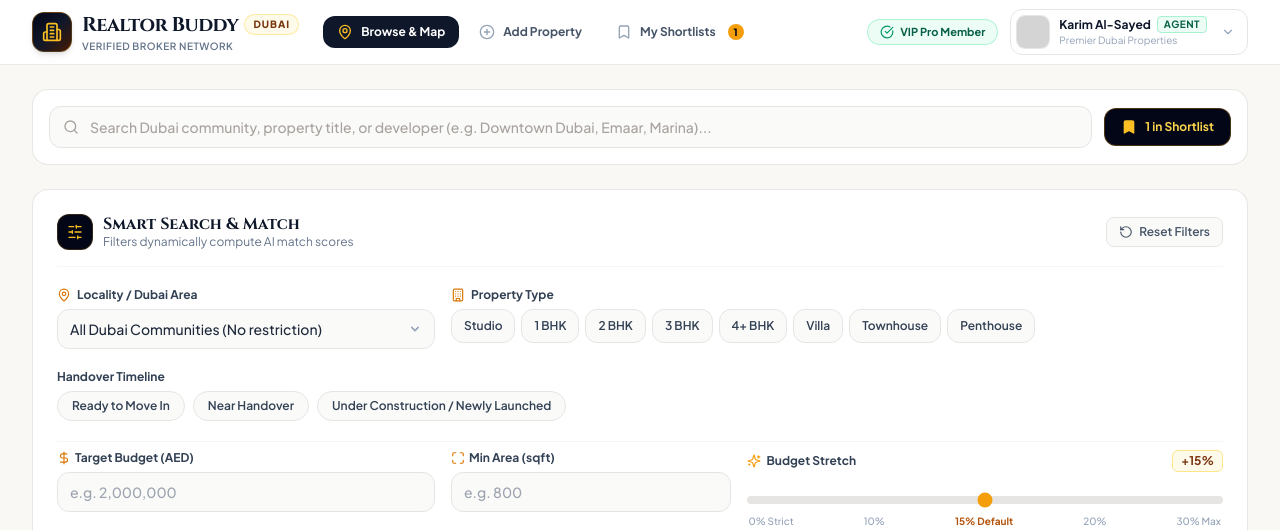
Test: Realtor Buddy Main App › navigates to /properties/new and displays the property creation form
What coordinates should you click on to do the following:
click the button "Add Property"
I would click on:
 (531, 32)
Its box is [465,16,596,48].
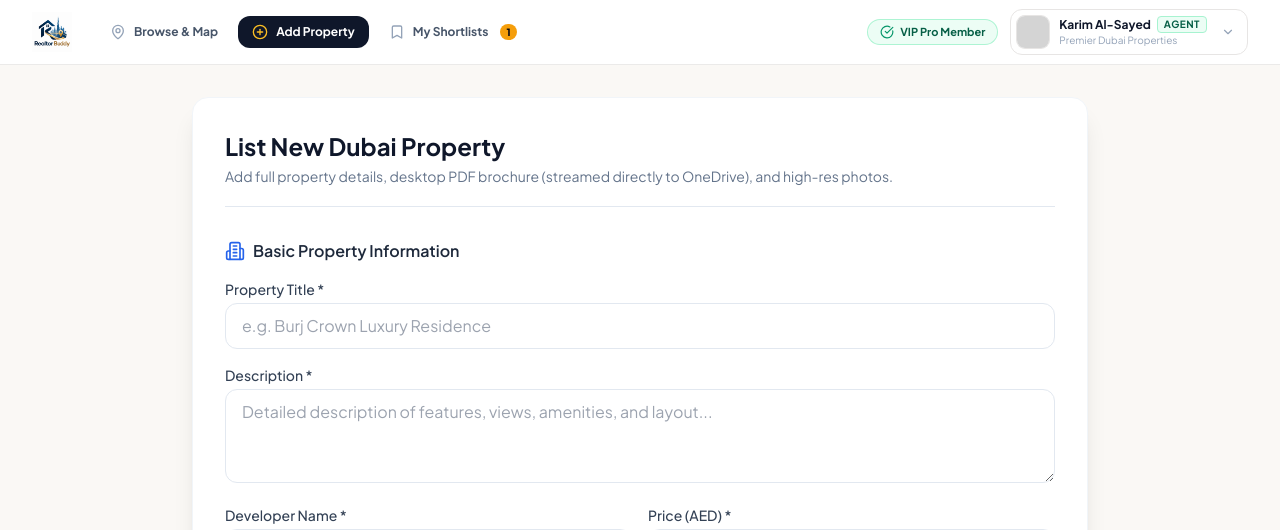
Now the heading "List New Dubai Property" is shown, box [225,131,505,161]
Now the field labelled "Property Title *" is shown, box [225,303,1055,349]
